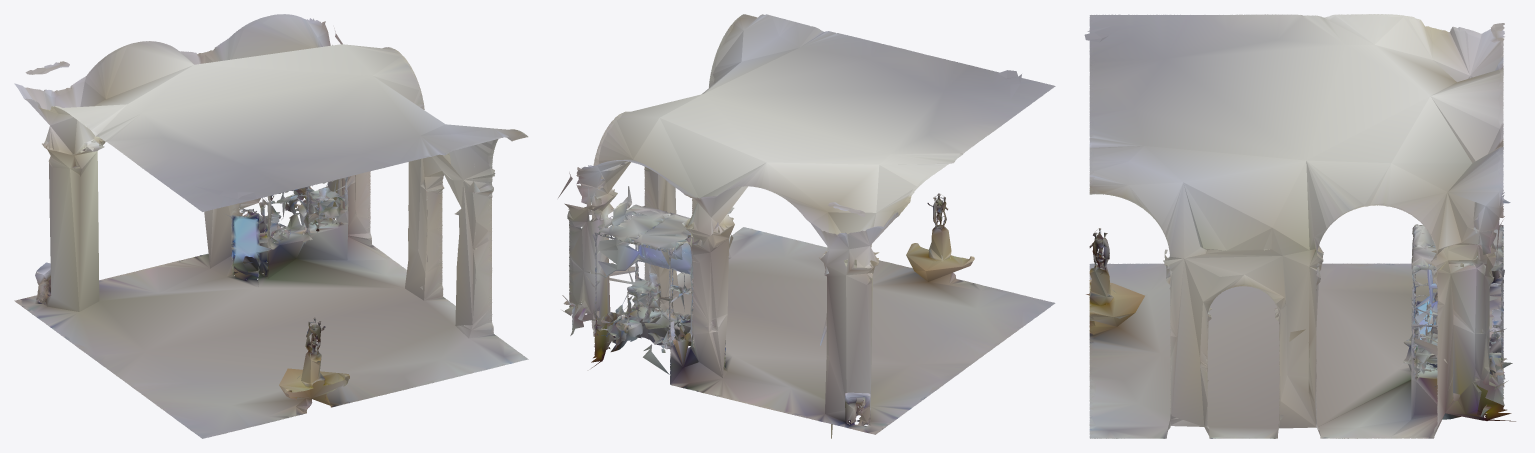
3 views of the same model, side by side, from view 1: azimuth 30°, elevation 25°; view 2: azimuth 150°, elevation 25°; view 3: azimuth 270°, elevation 25° (orthographic). The views are drawn at different scales.
Size of the model in its own units: 10.31 by 7.61 by 10.54.
